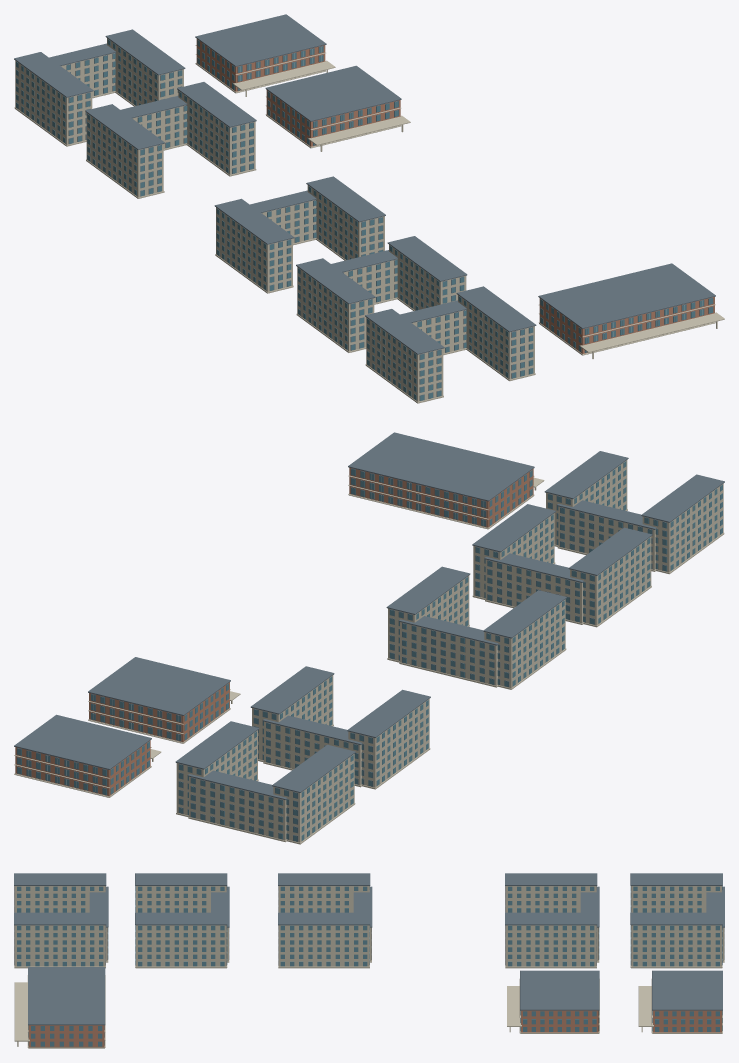
The model's file is residential.glb.
3 renders of one model, top to bottom at view 1: azimuth 30°, elevation 25°; view 2: azimuth 150°, elevation 25°; view 3: azimuth 270°, elevation 25°, orthographic. The views are drawn at different scales.
Visible parts, largest first — view 1: south-canteen__roof, faculty-canteen__roof, flavour-canteen__roof, dorm-5-west__stone, dorm-2-west__stone, dorm-3-west__stone, dorm-1-west__stone, dorm-4-west__stone, dorm-2-east__stone, dorm-5-east__stone, south-canteen__brickLight, dorm-3-east__stone (+41 smaller); view 2: south-canteen__roof, faculty-canteen__roof, flavour-canteen__roof, south-canteen__brickLight, dorm-1-link__stone, dorm-3-link__stone, dorm-1-west__stone, dorm-2-west__stone, dorm-4-west__stone, dorm-5-west__stone, dorm-3-west__stone, faculty-canteen__brickLight (+44 smaller); view 3: south-canteen__roof, faculty-canteen__roof, dorm-2-east__stone, dorm-3-east__stone, dorm-1-east__stone, dorm-4-east__stone, dorm-5-east__stone, flavour-canteen__roof, dorm-1-east__glass, dorm-4-east__glass, dorm-2-west__stone, dorm-3-west__stone (+36 smaller).
Part boxes in pixels (x1=…): south-canteen__roof: x1=538, y1=263, x2=715, y2=352; faculty-canteen__roof: x1=265, y1=65, x2=401, y2=145; flavour-canteen__roof: x1=195, y1=14, x2=326, y2=90; dorm-5-west__stone: x1=365, y1=317, x2=443, y2=403; dorm-2-west__stone: x1=86, y1=113, x2=164, y2=198; dorm-3-west__stone: x1=215, y1=207, x2=293, y2=293; dorm-1-west__stone: x1=14, y1=60, x2=92, y2=146; dorm-4-west__stone: x1=296, y1=267, x2=374, y2=352; dorm-2-east__stone: x1=178, y1=90, x2=256, y2=176; dorm-5-east__stone: x1=458, y1=295, x2=535, y2=381; south-canteen__brickLight: x1=539, y1=297, x2=714, y2=353; dorm-3-east__stone: x1=307, y1=185, x2=384, y2=260; south-canteen__roof: x1=348, y1=432, x2=534, y2=526; faculty-canteen__roof: x1=88, y1=657, x2=230, y2=741; flavour-canteen__roof: x1=14, y1=714, x2=151, y2=795; south-canteen__brickLight: x1=349, y1=467, x2=533, y2=527; dorm-1-link__stone: x1=188, y1=776, x2=286, y2=842; dorm-3-link__stone: x1=399, y1=622, x2=497, y2=687; dorm-1-west__stone: x1=273, y1=754, x2=355, y2=844; dorm-2-west__stone: x1=348, y1=699, x2=430, y2=789; dorm-4-west__stone: x1=570, y1=536, x2=651, y2=627; dorm-5-west__stone: x1=642, y1=483, x2=724, y2=574; dorm-3-west__stone: x1=484, y1=599, x2=566, y2=689; faculty-canteen__brickLight: x1=89, y1=682, x2=229, y2=741; south-canteen__roof: x1=28, y1=967, x2=105, y2=1025; faculty-canteen__roof: x1=520, y1=970, x2=599, y2=1030; dorm-2-east__stone: x1=505, y1=925, x2=596, y2=968; dorm-3-east__stone: x1=278, y1=925, x2=369, y2=968; dorm-1-east__stone: x1=630, y1=925, x2=722, y2=968; dorm-4-east__stone: x1=135, y1=925, x2=227, y2=968; dorm-5-east__stone: x1=14, y1=925, x2=105, y2=968; flavour-canteen__roof: x1=652, y1=970, x2=722, y2=1030; dorm-1-east__glass: x1=630, y1=925, x2=722, y2=966; dorm-4-east__glass: x1=135, y1=925, x2=227, y2=966; dorm-2-west__stone: x1=505, y1=886, x2=596, y2=912; dorm-3-west__stone: x1=278, y1=886, x2=369, y2=912.
Size of the model in its own units: 144 by 22.5 by 329.
